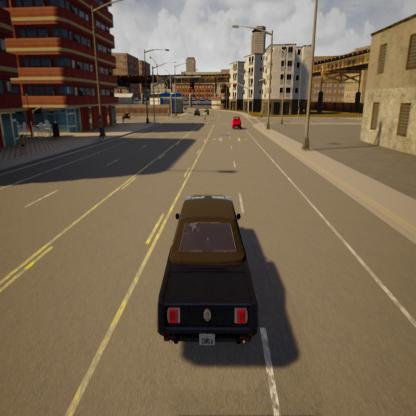Cars: (152, 193, 262, 352), (232, 112, 244, 134)
Pedestrian: (96, 108, 105, 144), (19, 132, 26, 157)
